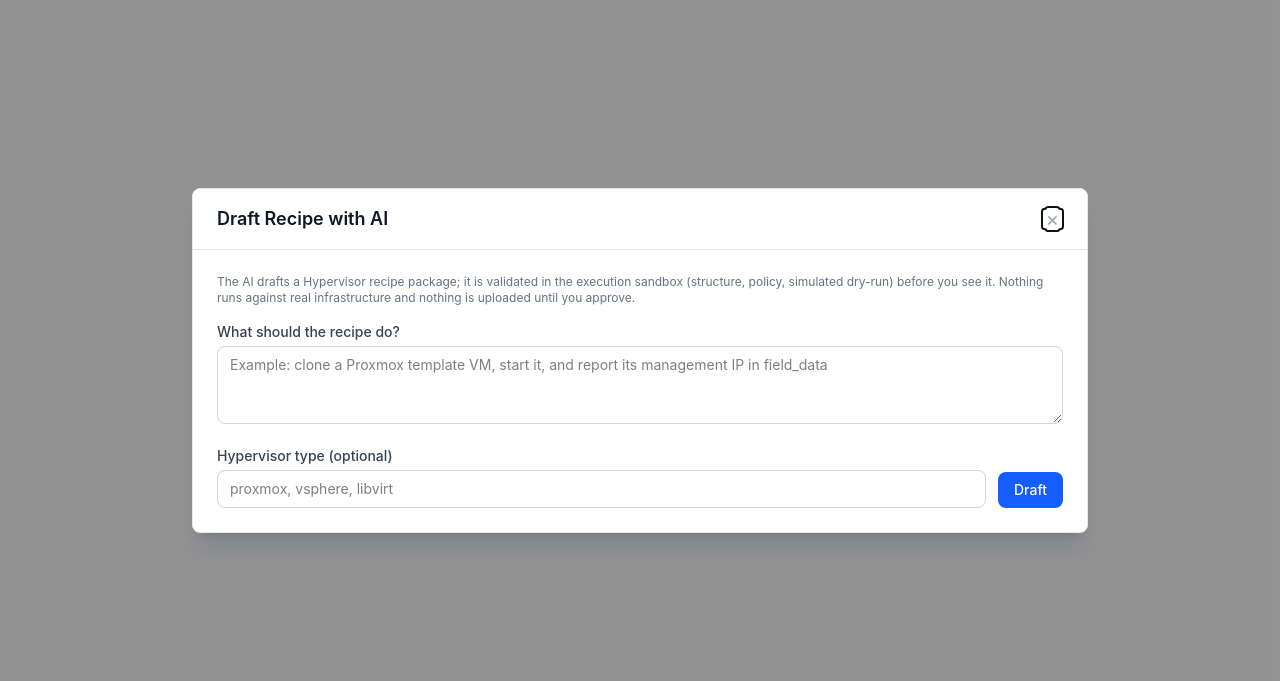
Scenario: RecipeDraftPanel › lists the keyed destroy as its own dry-run row (issue #937)
Replace the text in the text box labelled "What should the recipe do?" with "clone a proxmox vm" at (640, 384), box [217,346,1063,424]
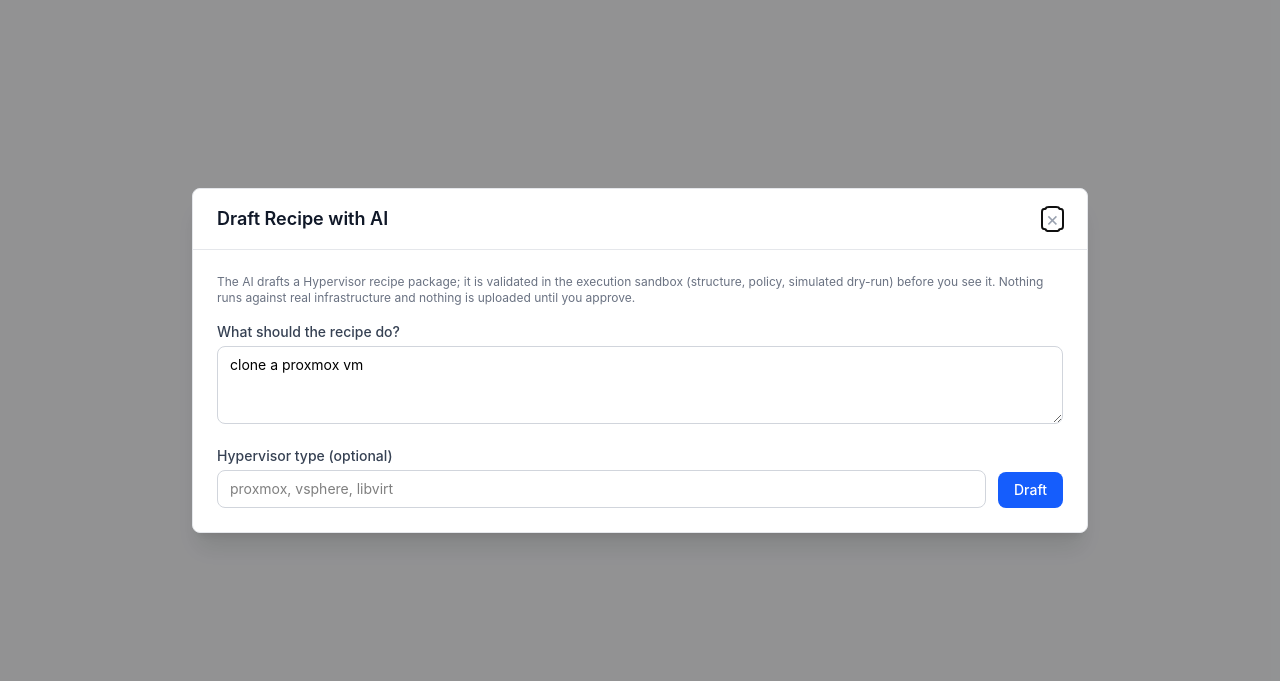
Click the button "Draft" at (1030, 490), box [998,472,1063,508]
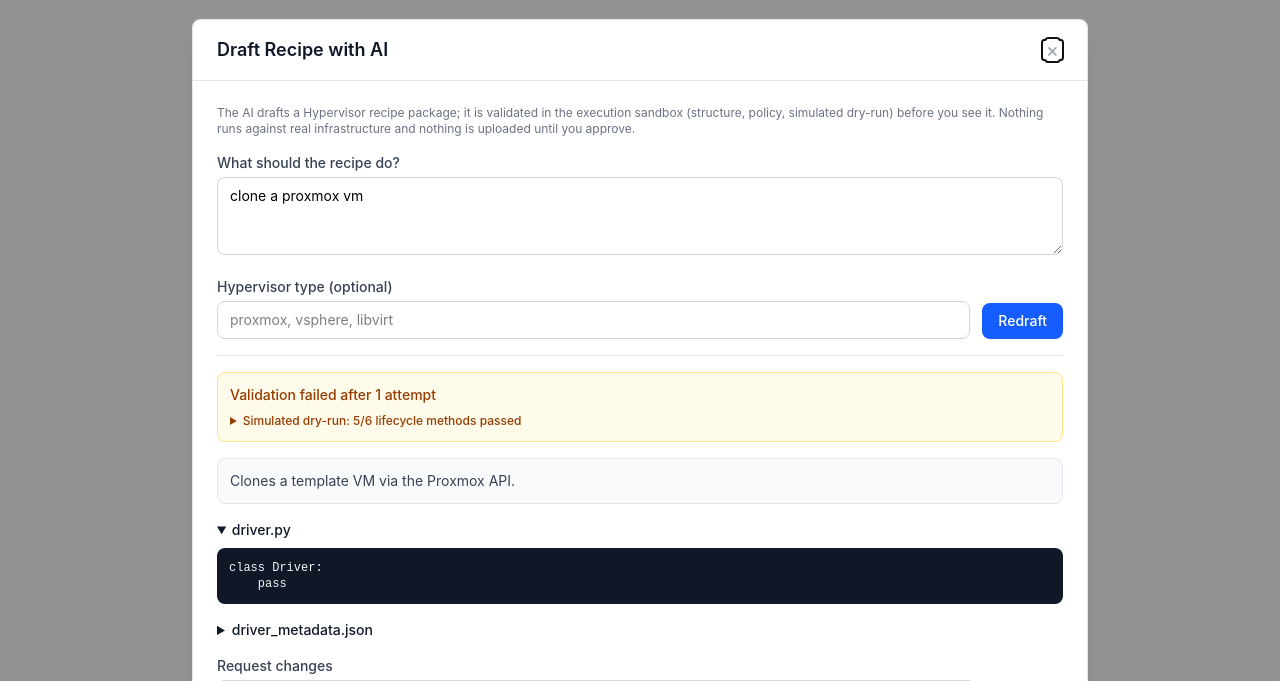
Check: the heading "Simulated dry-run: 5/6 lifecycle methods passed" is shown, box [243,413,521,428]
